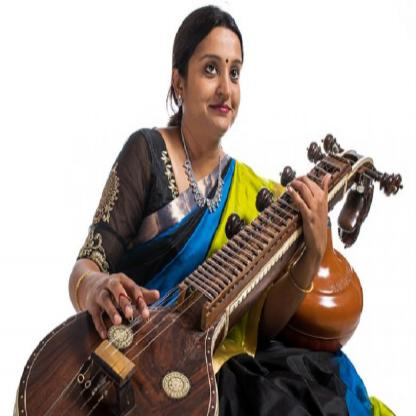Veena: (44, 186, 323, 416)
